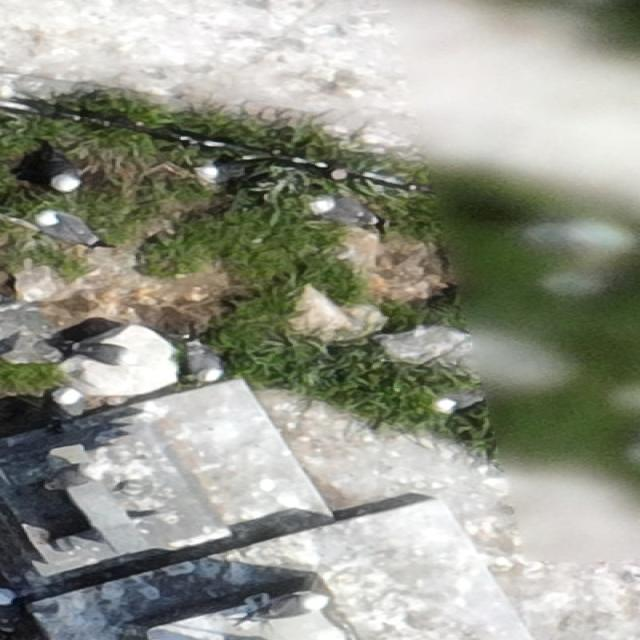umineko: (244, 590, 327, 628), (33, 208, 108, 249), (40, 459, 115, 495), (63, 340, 144, 367), (184, 337, 224, 380), (50, 162, 90, 194), (433, 387, 484, 411), (52, 385, 87, 417), (199, 164, 242, 182)
